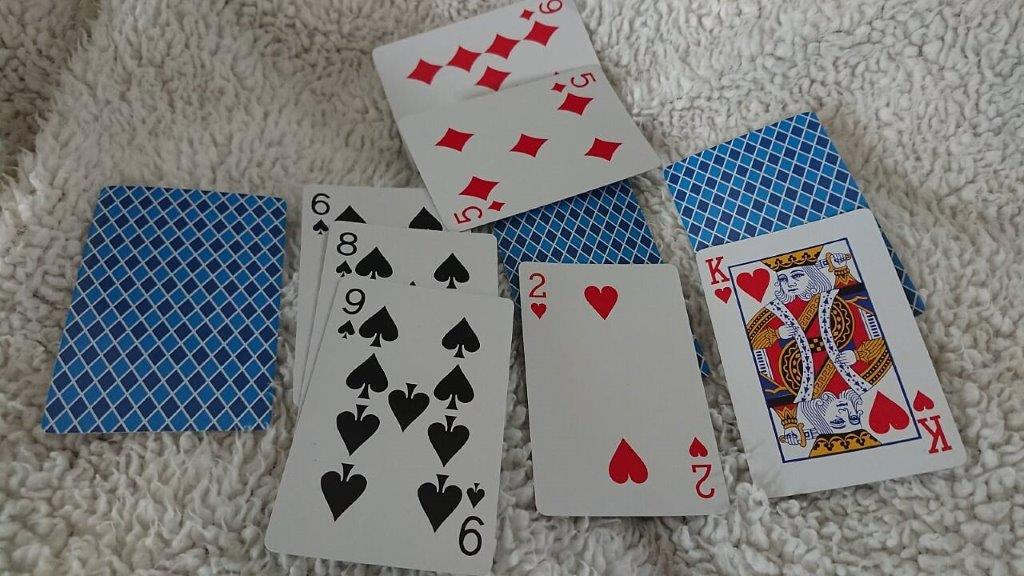2H: (524, 264, 559, 325)
6S: (307, 188, 337, 239)
8S: (331, 225, 360, 281)
9S: (332, 282, 373, 348)
BACK: (41, 186, 287, 434), (665, 110, 871, 207)
KH: (703, 250, 742, 307)
